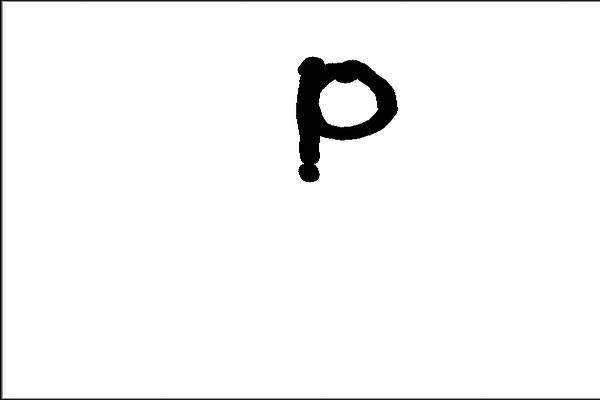P: (281, 46, 414, 198)
